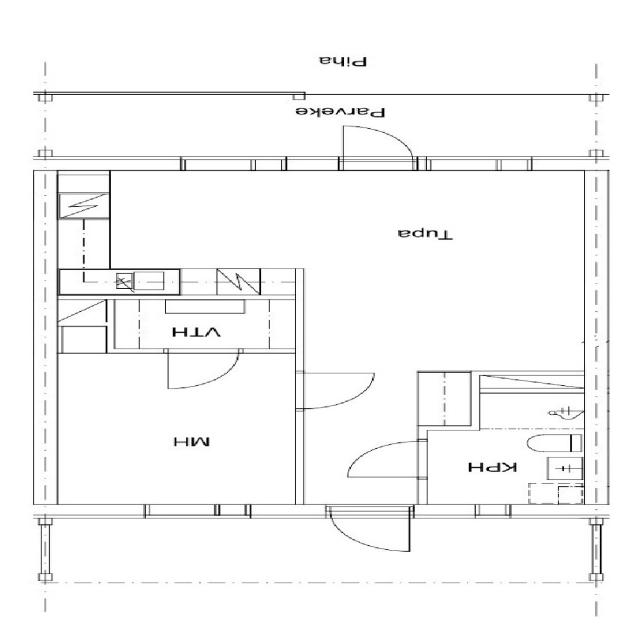door: (323, 503, 417, 555), (286, 366, 384, 412), (338, 434, 428, 483), (157, 347, 245, 393), (337, 122, 417, 167)
window: (47, 152, 185, 168)
zone: (37, 163, 597, 351), (46, 351, 310, 512), (414, 428, 591, 509)
